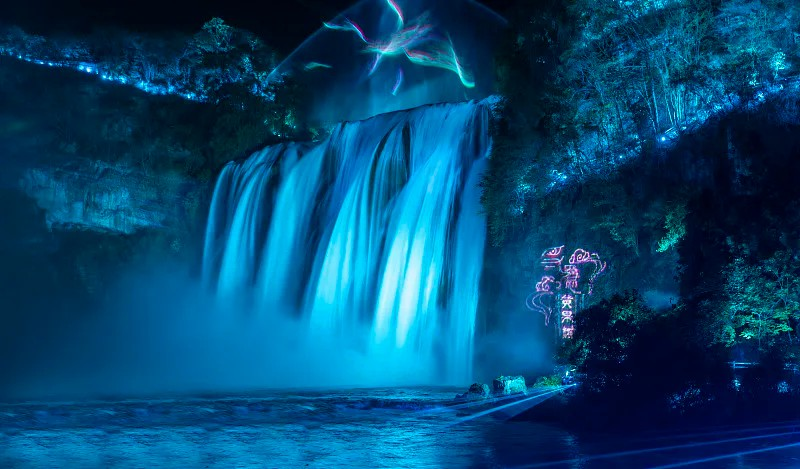Huangguoshu: (203, 97, 491, 385)
